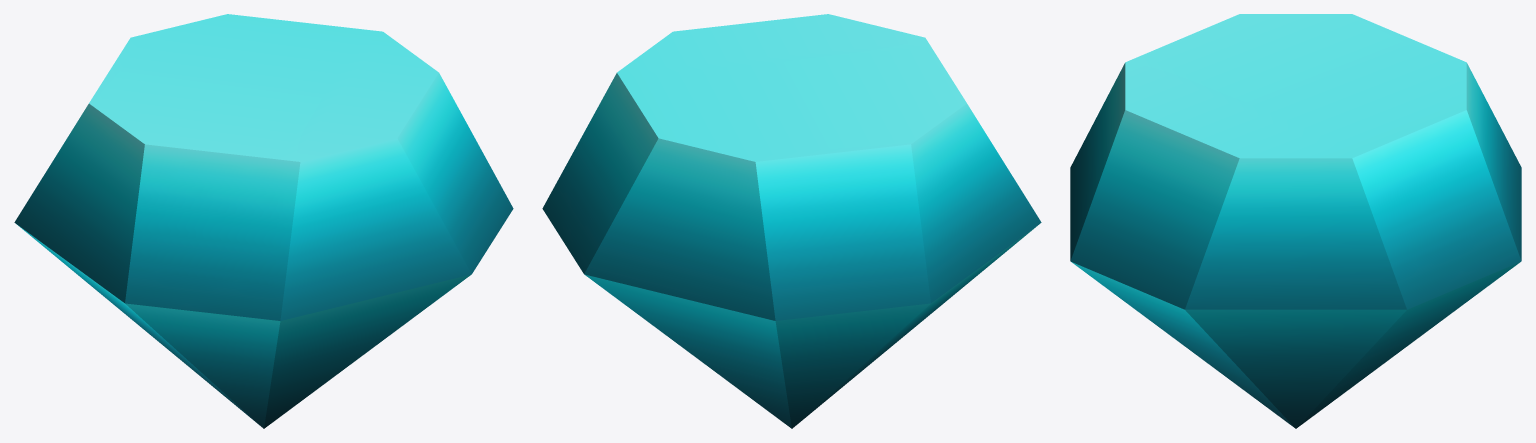
Rendered from Gem_Blue.fbx.
The picture shows the model from 3 angles, left to right: view 1: azimuth 30°, elevation 25°; view 2: azimuth 150°, elevation 25°; view 3: azimuth 270°, elevation 25°; orthographic projection.
Parts seen in each view (by area): view 1: Gem_Blue; view 2: Gem_Blue; view 3: Gem_Blue.
Part boxes in pixels (box(x1,y1,x2,y2)): Gem_Blue: box(14, 14, 513, 428); Gem_Blue: box(542, 14, 1041, 428); Gem_Blue: box(1070, 14, 1521, 428).
Bounding box in the file's own units: 7.34 × 7.34 × 6.15.
Materials: 1 (1 with a texture image).
